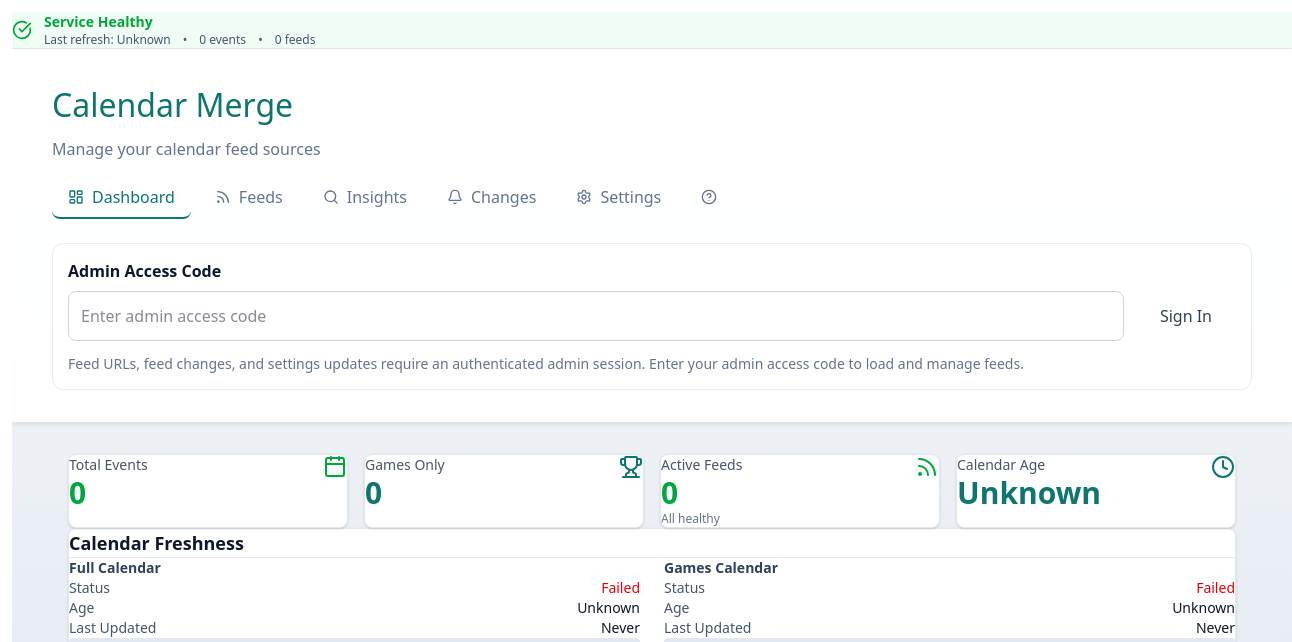
Test: App setup flow › opens the setup panel after signing in when no feeds exist
In the password field labelled "Admin Access Code": [596, 316] box [68,291,1124,341], type "family-code"
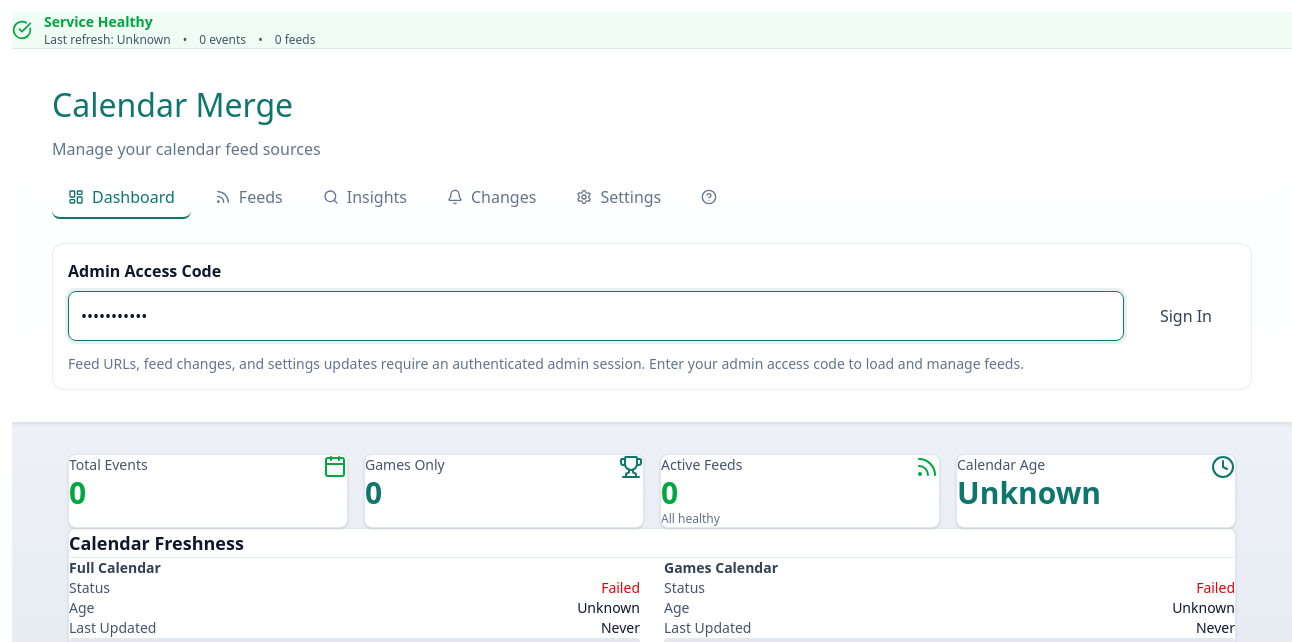
Click the button "Sign In": [1186, 316] box [1136,293,1236,339]
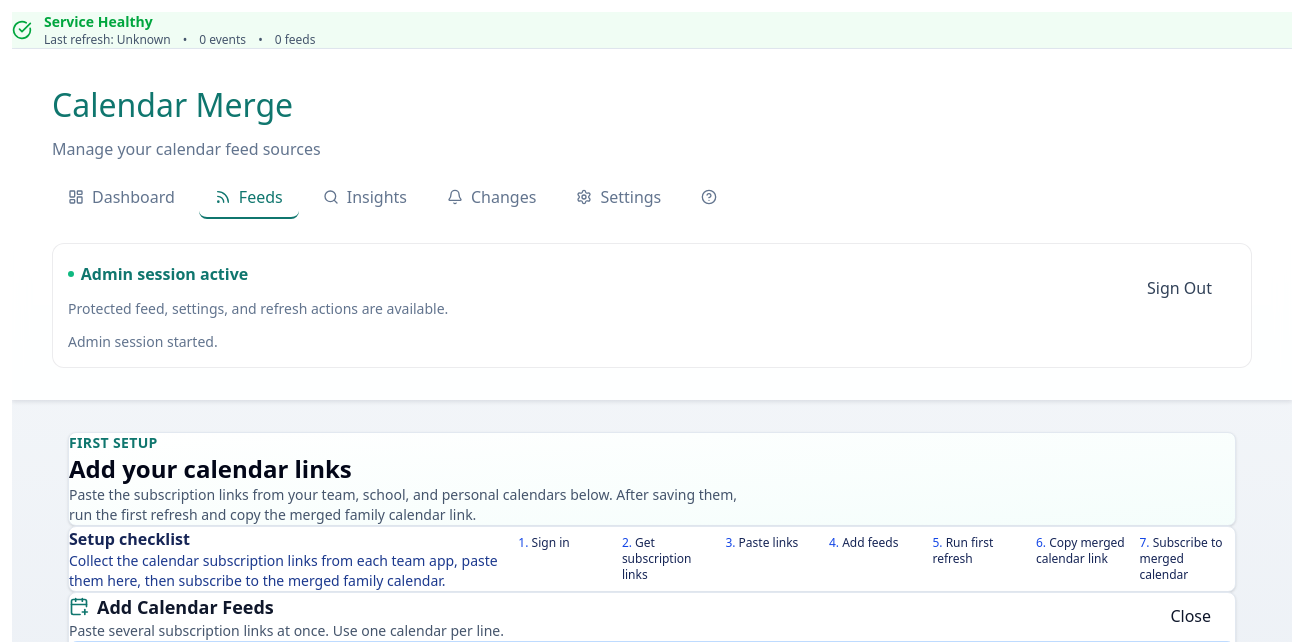
Expected: the heading "Add Calendar Feeds" is shown, [97,593,274,621]
Expected: the heading "Setup checklist" is shown, [69,528,190,550]
Expected: the list item "2. Get subscription links" is shown, [622,535,717,583]
